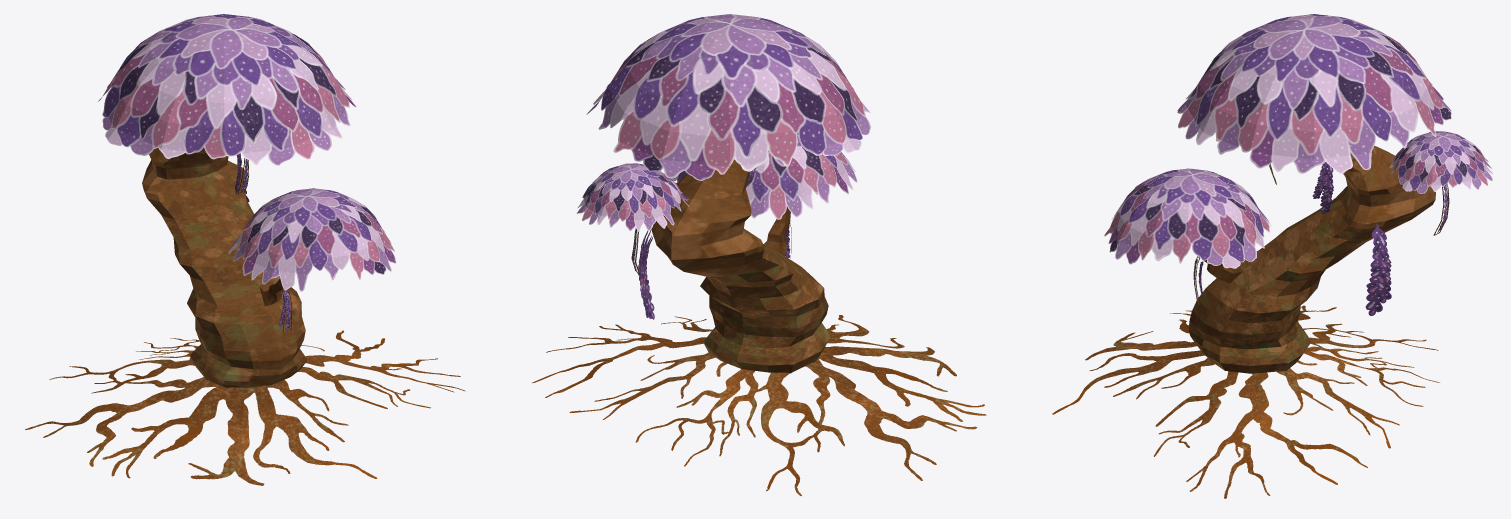
Rendered from magic_tree.fbx.
The picture shows the model from 3 angles, left to right: view 1: azimuth 30°, elevation 25°; view 2: azimuth 150°, elevation 25°; view 3: azimuth 270°, elevation 25°; orthographic projection. The views are drawn at different scales.
Parts seen in each view (by area): view 1: Magic_tree; view 2: Magic_tree; view 3: Magic_tree.
Part boxes in pixels (left/top/right/bottom): Magic_tree: left=25, top=14, right=465, bottom=485; Magic_tree: left=532, top=14, right=986, bottom=496; Magic_tree: left=1052, top=14, right=1493, bottom=498.
Bounding box in the file's own units: 26.91 × 22.73 × 24.95.
